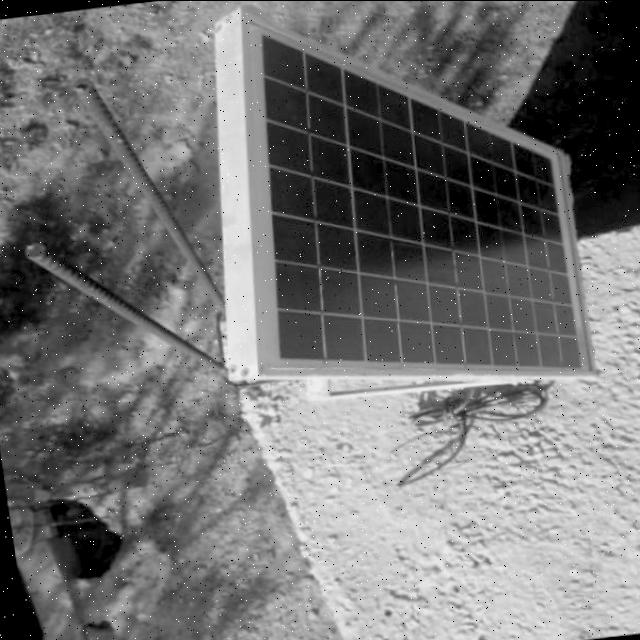Normal Solar Panel: (204, 0, 592, 412)
